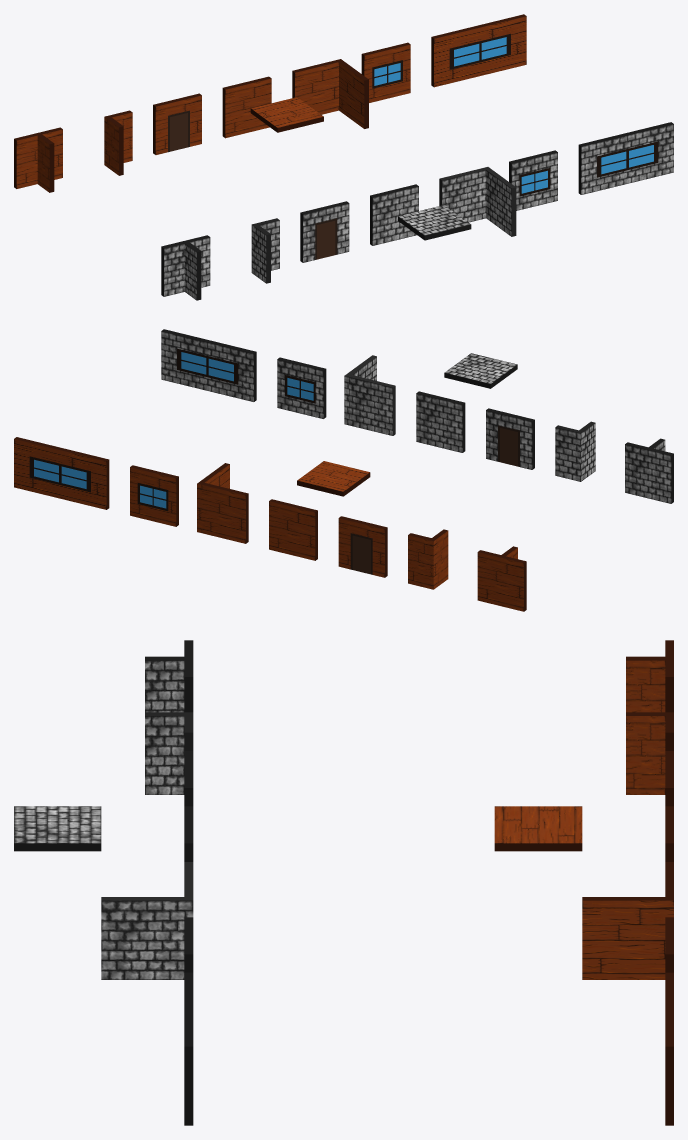
File: wallsofWoodandBricks.glb
The picture shows the model from 3 angles, top to bottom: view 1: azimuth 30°, elevation 25°; view 2: azimuth 150°, elevation 25°; view 3: azimuth 270°, elevation 25°; orthographic projection. The views are drawn at different scales.
Visible parts, largest first — view 1: woodwallWindowBig-col, woodwallWindowBig-col.001, woodwallCorner-col.001, woodwallCorner-col, woodwall1Intersection-col.001, woodwall1Intersection-col, woodwallDoor-col.001, woodwallDoor-col, woodwallWindow-col, woodwallWindow-col.001, woodwall1-col, woodwall1-col.001 (+4 smaller); view 2: woodwallWindowBig-col, woodwallWindowBig-col.001, woodwallCorner-col, woodwallCorner-col.001, woodwall1Intersection-col, woodwall1Intersection-col.001, woodwallDoor-col, woodwallWindow-col.001, woodwall1-col.001, woodwallDoor-col.001, woodwall1-col, woodwallWindow-col (+4 smaller); view 3: woodwallCorner-col.001, woodwallCorner-col, woodwall1Ground-col, woodwall1Ground-col.001, woodwallCornerSmall-col.001, woodwallCornerSmall-col, woodwall1Intersection-col.001, woodwall1Intersection-col, woodwallWindowBig-col.001, woodwallWindowBig-col.
Boxes of the visible parts, bbox=[...] form: woodwallWindowBig-col: bbox=[431, 14, 526, 87]; woodwallWindowBig-col.001: bbox=[578, 122, 673, 194]; woodwallCorner-col.001: bbox=[439, 167, 516, 236]; woodwallCorner-col: bbox=[292, 59, 368, 128]; woodwall1Intersection-col.001: bbox=[161, 235, 210, 300]; woodwall1Intersection-col: bbox=[14, 127, 62, 192]; woodwallDoor-col.001: bbox=[300, 201, 349, 262]; woodwallDoor-col: bbox=[153, 93, 201, 154]; woodwallWindow-col: bbox=[361, 42, 410, 102]; woodwallWindow-col.001: bbox=[509, 150, 557, 210]; woodwall1-col: bbox=[222, 76, 271, 138]; woodwall1-col.001: bbox=[370, 184, 418, 245]; woodwallWindowBig-col: bbox=[14, 437, 109, 509]; woodwallWindowBig-col.001: bbox=[161, 329, 256, 401]; woodwallCorner-col: bbox=[197, 463, 248, 543]; woodwallCorner-col.001: bbox=[344, 355, 395, 435]; woodwall1Intersection-col: bbox=[477, 546, 526, 611]; woodwall1Intersection-col.001: bbox=[625, 438, 673, 503]; woodwallDoor-col: bbox=[338, 516, 387, 577]; woodwallWindow-col.001: bbox=[277, 357, 326, 418]; woodwall1-col.001: bbox=[416, 391, 465, 452]; woodwallDoor-col.001: bbox=[486, 408, 534, 469]; woodwall1-col: bbox=[269, 499, 317, 560]; woodwallWindow-col: bbox=[130, 465, 178, 526]; woodwallCorner-col.001: bbox=[101, 862, 193, 979]; woodwallCorner-col: bbox=[582, 862, 673, 979]; woodwall1Ground-col: bbox=[494, 806, 582, 851]; woodwall1Ground-col.001: bbox=[14, 806, 101, 851]; woodwallCornerSmall-col.001: bbox=[145, 712, 193, 794]; woodwallCornerSmall-col: bbox=[626, 712, 673, 794]; woodwall1Intersection-col.001: bbox=[145, 640, 193, 712]; woodwall1Intersection-col: bbox=[626, 640, 673, 712]; woodwallWindowBig-col.001: bbox=[184, 972, 193, 1125]; woodwallWindowBig-col: bbox=[665, 972, 673, 1125].
Size of the model in its own units: 22 by 2 by 15.1.
Materials: 3 (3 with a texture image).
